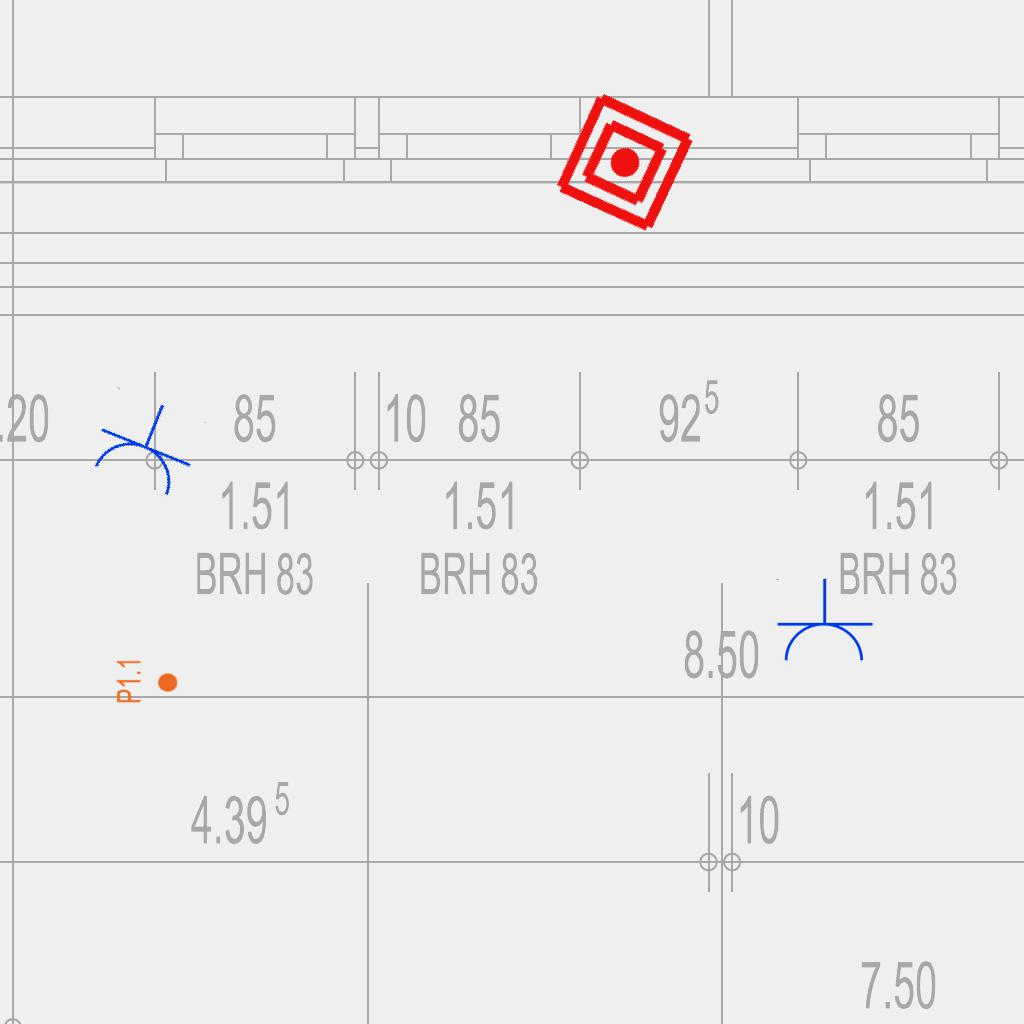Downlight_LED_Einbauleuchten_Flur: (115, 658, 179, 704)
NAM-Nichtautomatischer_Melder: (549, 87, 700, 238)
Schukosteckdose_einfach: (83, 385, 209, 504), (774, 578, 874, 665)
